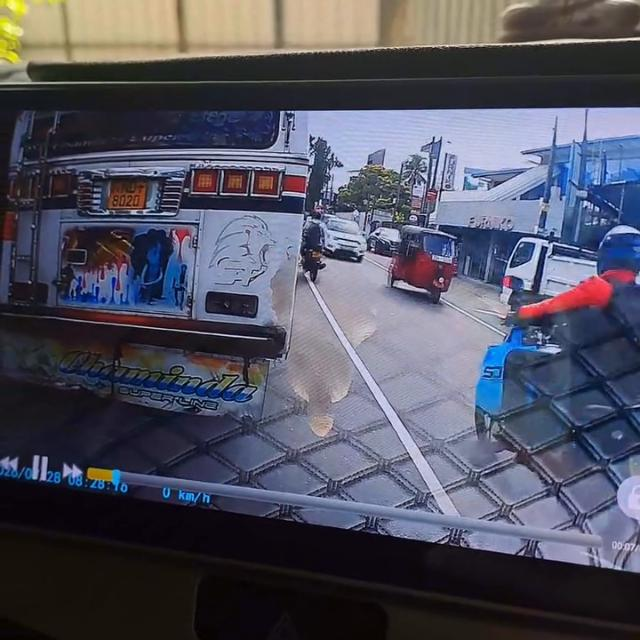illegal overtaking: (484, 221, 640, 518)
